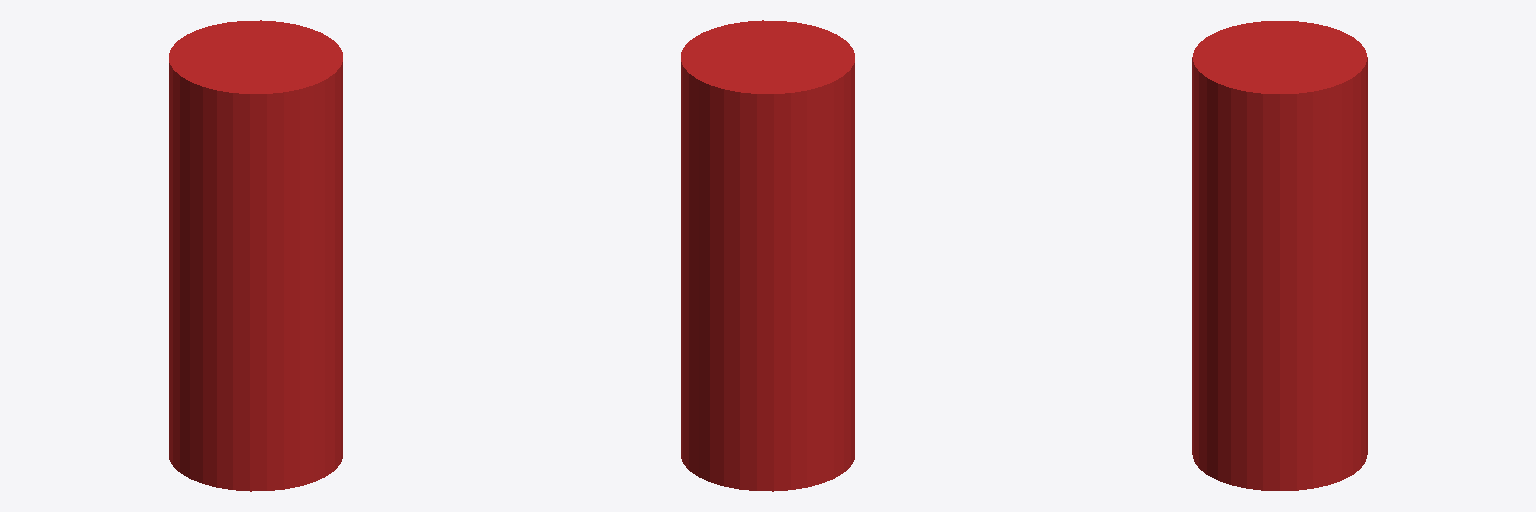
The robot description file, URDF, robot "cylinder":
<?xml version='1.0' encoding='UTF-8'?>
<robot name="cylinder">
  <link name="base_link">
    <inertial>
      <origin xyz="0.0 0.0 0.0" rpy="0.0 -0.0 0.0"/>
      <mass value="1.0"/>
      <inertia ixx="1.0" ixy="0.0" ixz="0.0" iyy="1.0" iyz="0.0" izz="1.0"/>
    </inertial>
    <visual name="base_link_visual">
      <geometry>
        <cylinder radius="0.317" length="1.587"/>
      </geometry>
      <origin xyz="0 0 0" rpy="0 0 0"/>
      <material name="object_color">
        <color rgba="0.8 0.2 0.2 1"/>
      </material>
    </visual>
    <collision name="base_link_collision">
      <geometry>
        <cylinder radius="0.317" length="1.587"/>
      </geometry>
      <origin xyz="0 0 0" rpy="0 0 0"/>
    </collision>
  </link>
</robot> 

--- Facts derived from the render (not from the file) ---
The picture shows the robot from 3 angles, left to right: view 1: azimuth 30°, elevation 25°; view 2: azimuth 150°, elevation 25°; view 3: azimuth 270°, elevation 25°; orthographic projection.
Model cylinder with 1 links and 0 joints (none), rooted at base_link, posed all joints at 0.
Visible links, largest first — view 1: base_link; view 2: base_link; view 3: base_link.
Boxes of the visible links, bbox=[...] form: base_link: bbox=[169, 20, 342, 491]; base_link: bbox=[681, 20, 854, 491]; base_link: bbox=[1192, 21, 1367, 490].
Bounding box of the posed robot: 0.634 × 0.634 × 1.59 m (x, y, z).
Geometry: primitives only (box / cylinder / sphere), no mesh files.
